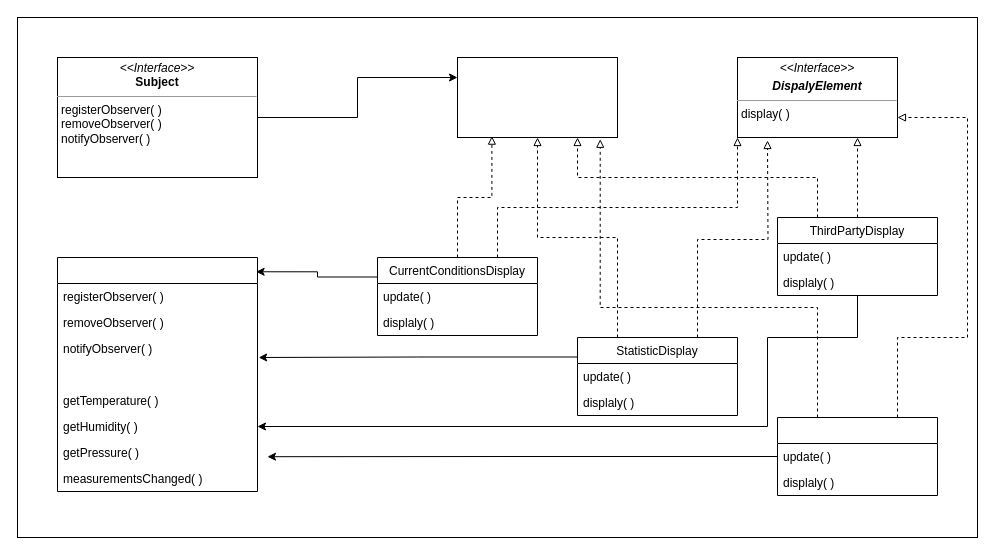
Image size: 995x555. Some labels were removed from this diagram. Here are the shapes that lost their labels. From the top down, the box of each, then its label:
(456, 56, 618, 138): <<Interface>> Observer update( )
(56, 256, 258, 492): WeatherDate
(776, 416, 938, 496): ForecastDisplay
